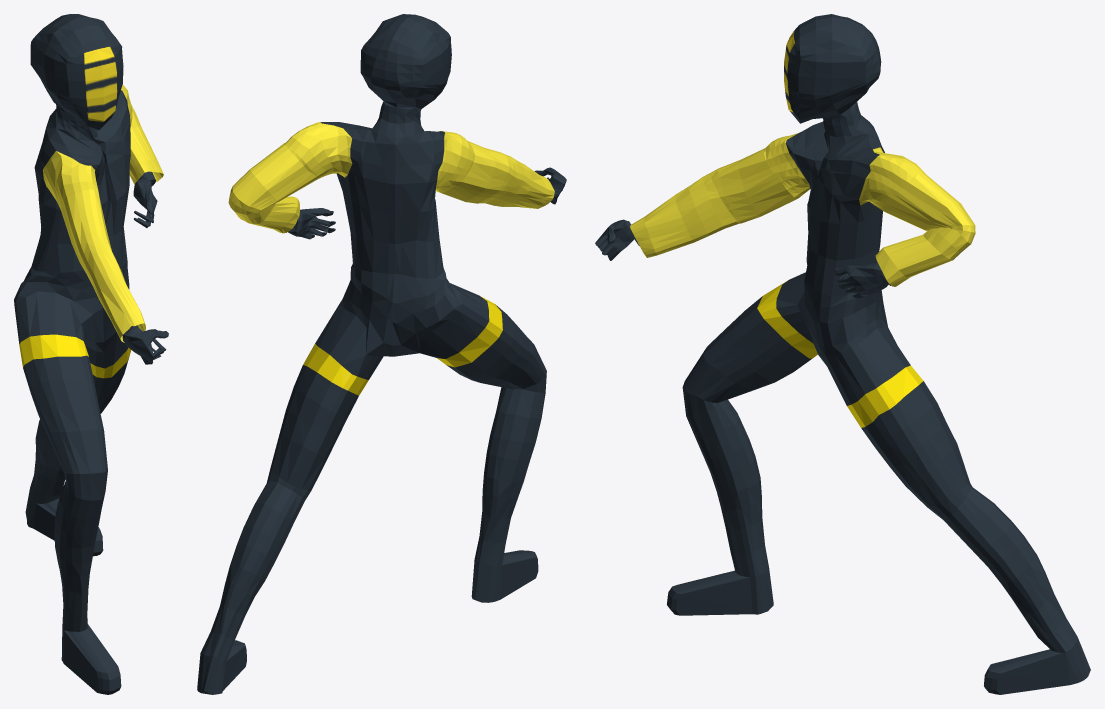
File: Sentry_WR_000012.obj
The picture shows the model from 3 angles, left to right: view 1: azimuth 30°, elevation 25°; view 2: azimuth 150°, elevation 25°; view 3: azimuth 270°, elevation 25°; orthographic projection. The views are drawn at different scales.
Parts seen in each view (by area): view 1: Cube; view 2: Cube; view 3: Cube.
Part boxes in pixels (<box>): Cube: <box>14,14,168,694</box>; Cube: <box>197,14,566,694</box>; Cube: <box>595,14,1090,694</box>.
Size of the model in its own units: 1.19 by 3.6 by 2.58.
